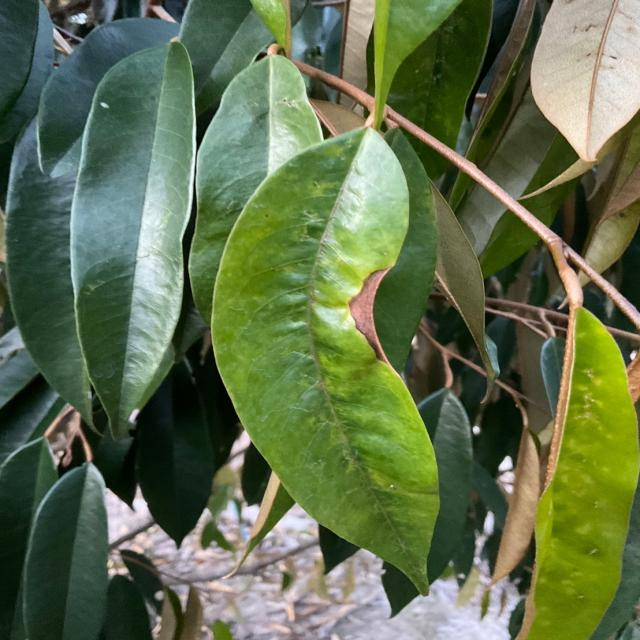Leaf Spot: (219, 132, 446, 599)
